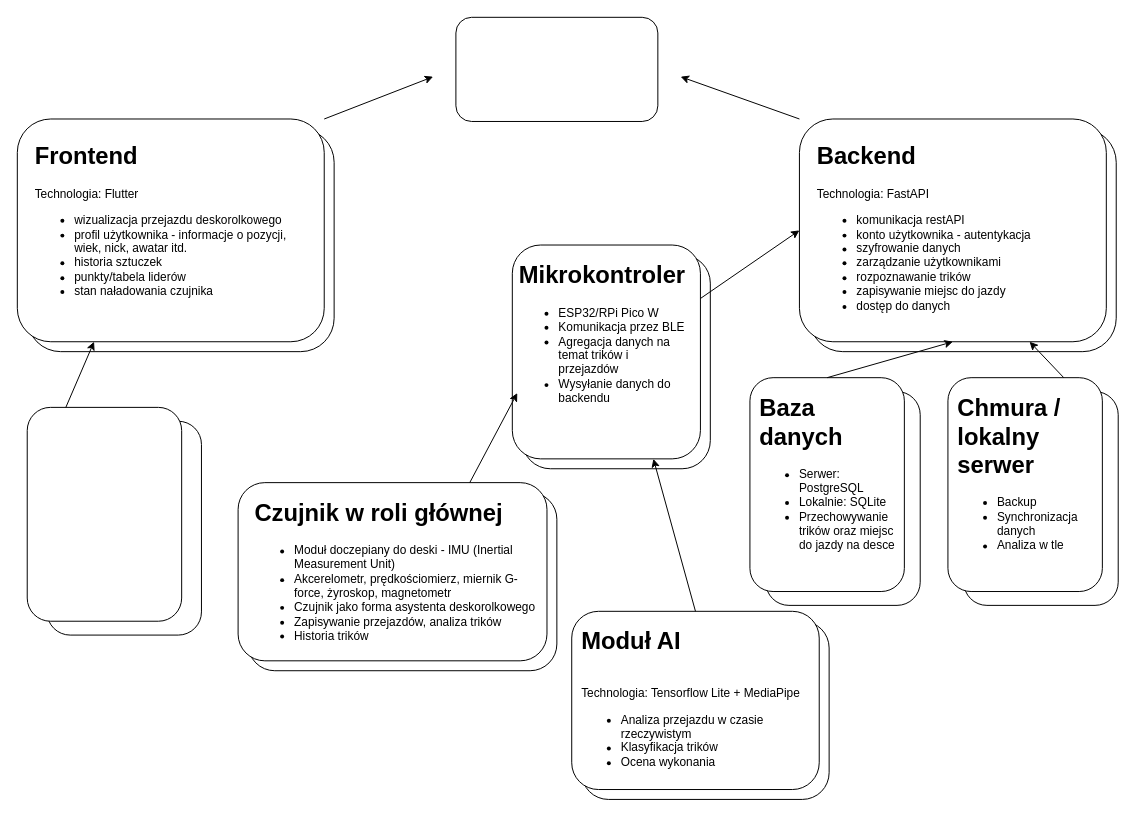
Some shapes in this 1136 by 817 pixel diagram are drawn without their labels. The shapes that lost their labels are listed below. From the top down, each one's box as (x1, y1, x2, y2) in pixels, then its label:
(455, 16, 658, 121): Aplikacja Mobilna
(26, 406, 182, 621): Moduł mapy Openstreet map Image picker do ładowania filmów
